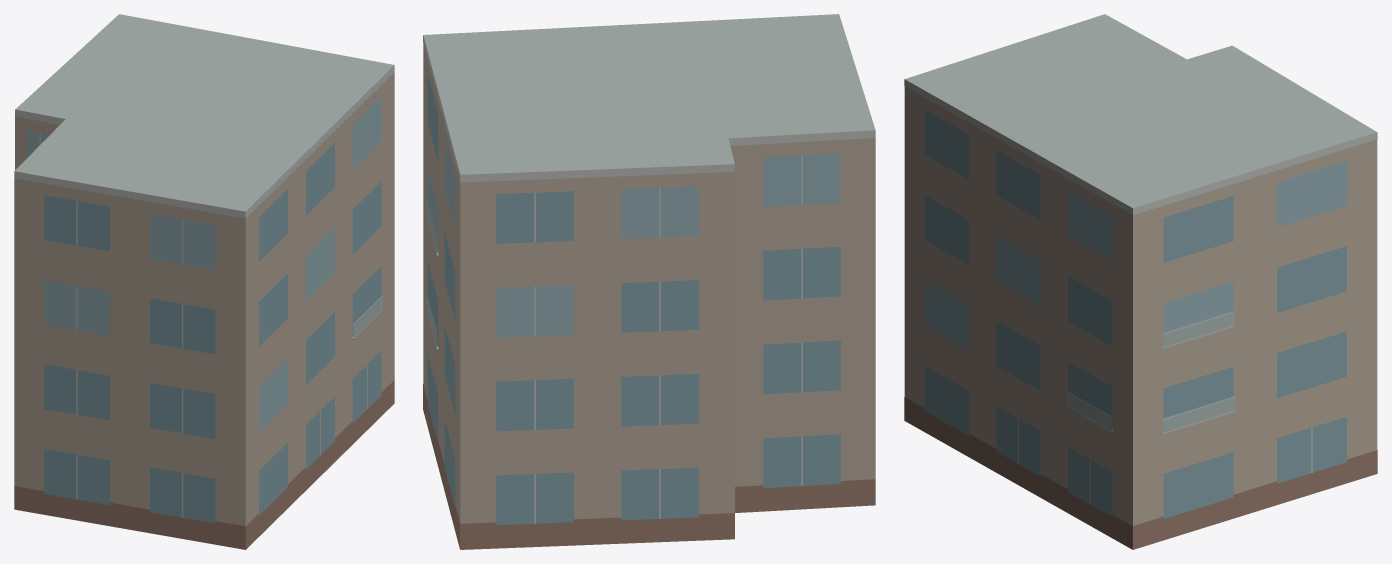
File: survey-upis-32709375.glb
The picture shows the model from 3 angles, left to right: view 1: azimuth 30°, elevation 25°; view 2: azimuth 150°, elevation 25°; view 3: azimuth 270°, elevation 25°; orthographic projection. The views are drawn at different scales.
Parts seen in each view (by area): view 1: survey-upis-32709375.tmp; view 2: survey-upis-32709375.tmp; view 3: survey-upis-32709375.tmp.
Boxes of the visible parts, x1,y1,x2,y2 form: survey-upis-32709375.tmp: [14, 14, 394, 549]; survey-upis-32709375.tmp: [423, 14, 875, 549]; survey-upis-32709375.tmp: [904, 14, 1377, 549].
Size of the model in its own units: 14.46 by 11.85 by 14.87.
